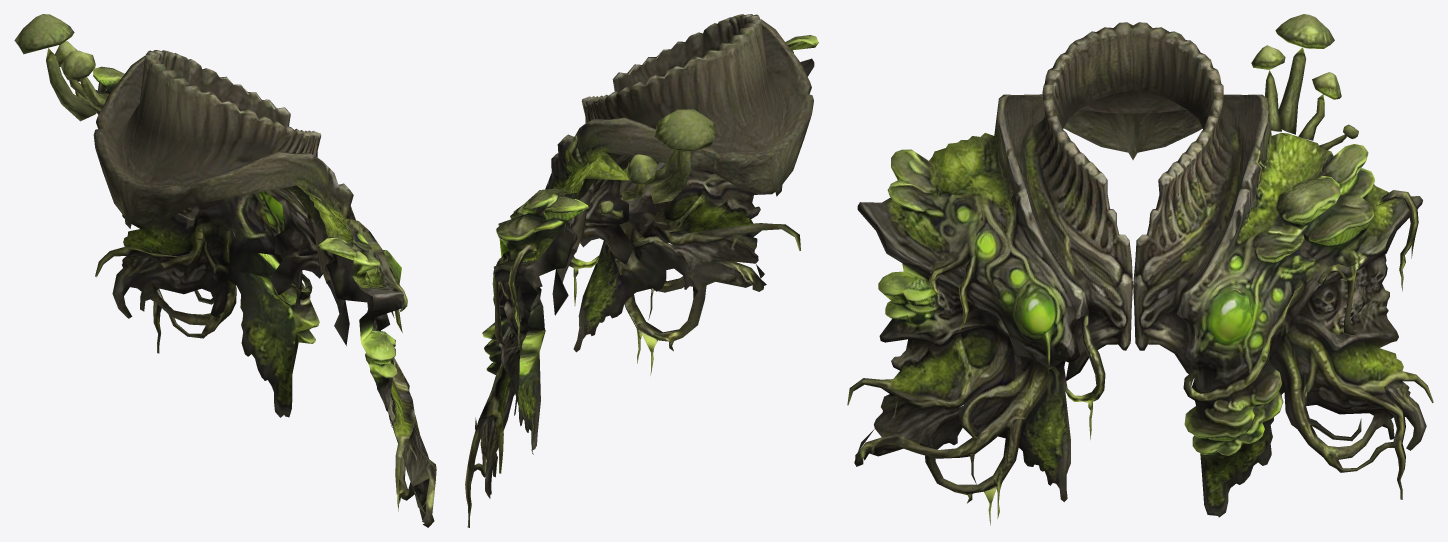
File: necro_mantle_rotweaver_asc.glb
The picture shows the model from 3 angles, left to right: view 1: azimuth 30°, elevation 25°; view 2: azimuth 150°, elevation 25°; view 3: azimuth 270°, elevation 25°; orthographic projection. The views are drawn at different scales.
Parts seen in each view (by area): view 1: tripo_node_9f8f484a-d048-490e-ba01-4f2c8bacc14a; view 2: tripo_node_9f8f484a-d048-490e-ba01-4f2c8bacc14a; view 3: tripo_node_9f8f484a-d048-490e-ba01-4f2c8bacc14a.
Boxes of the visible parts, x1,y1,x2,y2 form: tripo_node_9f8f484a-d048-490e-ba01-4f2c8bacc14a: (14, 14, 436, 527); tripo_node_9f8f484a-d048-490e-ba01-4f2c8bacc14a: (465, 14, 818, 527); tripo_node_9f8f484a-d048-490e-ba01-4f2c8bacc14a: (847, 14, 1433, 525).
Size of the model in its own units: 0.498 by 0.7988 by 0.998.
1 material, 1 textured.
